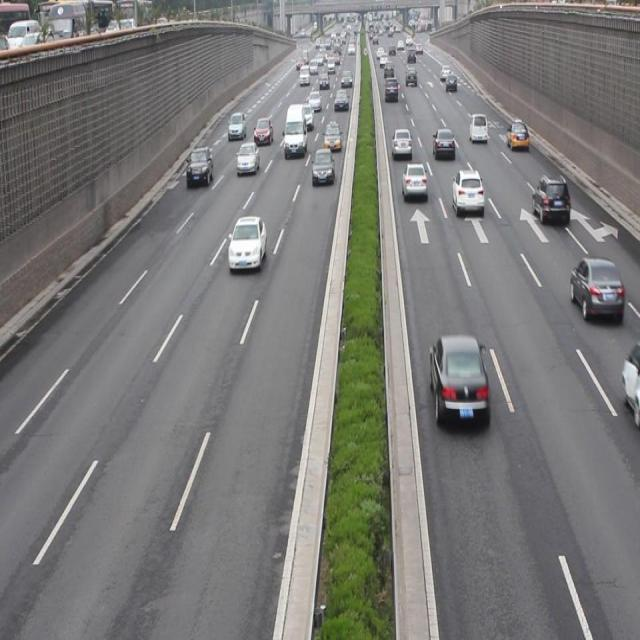car: (429, 333, 487, 427), (570, 255, 623, 320), (227, 213, 267, 271), (532, 174, 569, 225), (450, 169, 484, 216), (620, 339, 640, 416), (186, 144, 214, 185), (401, 160, 426, 200), (431, 126, 456, 161), (310, 146, 333, 184), (237, 140, 259, 175), (506, 118, 529, 150), (252, 115, 274, 146), (468, 111, 488, 143), (226, 110, 246, 142), (391, 128, 412, 158), (322, 121, 341, 150)
truck: (283, 104, 307, 158)
